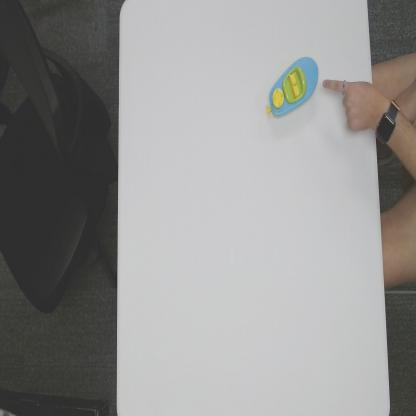Boat: (265, 53, 320, 118)
Hand: (322, 70, 374, 134)
